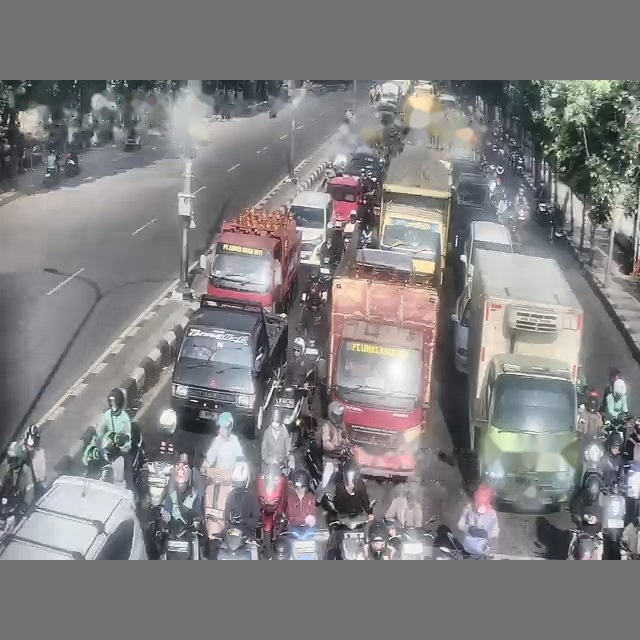Mobil: (0, 475, 147, 559), (451, 283, 471, 375)
Motor: (257, 463, 288, 553), (328, 513, 368, 559), (275, 527, 328, 559), (159, 520, 201, 559), (217, 521, 258, 560)
Truk: (467, 250, 583, 505), (319, 238, 437, 477), (171, 295, 287, 437), (200, 208, 301, 312), (379, 184, 450, 283)
